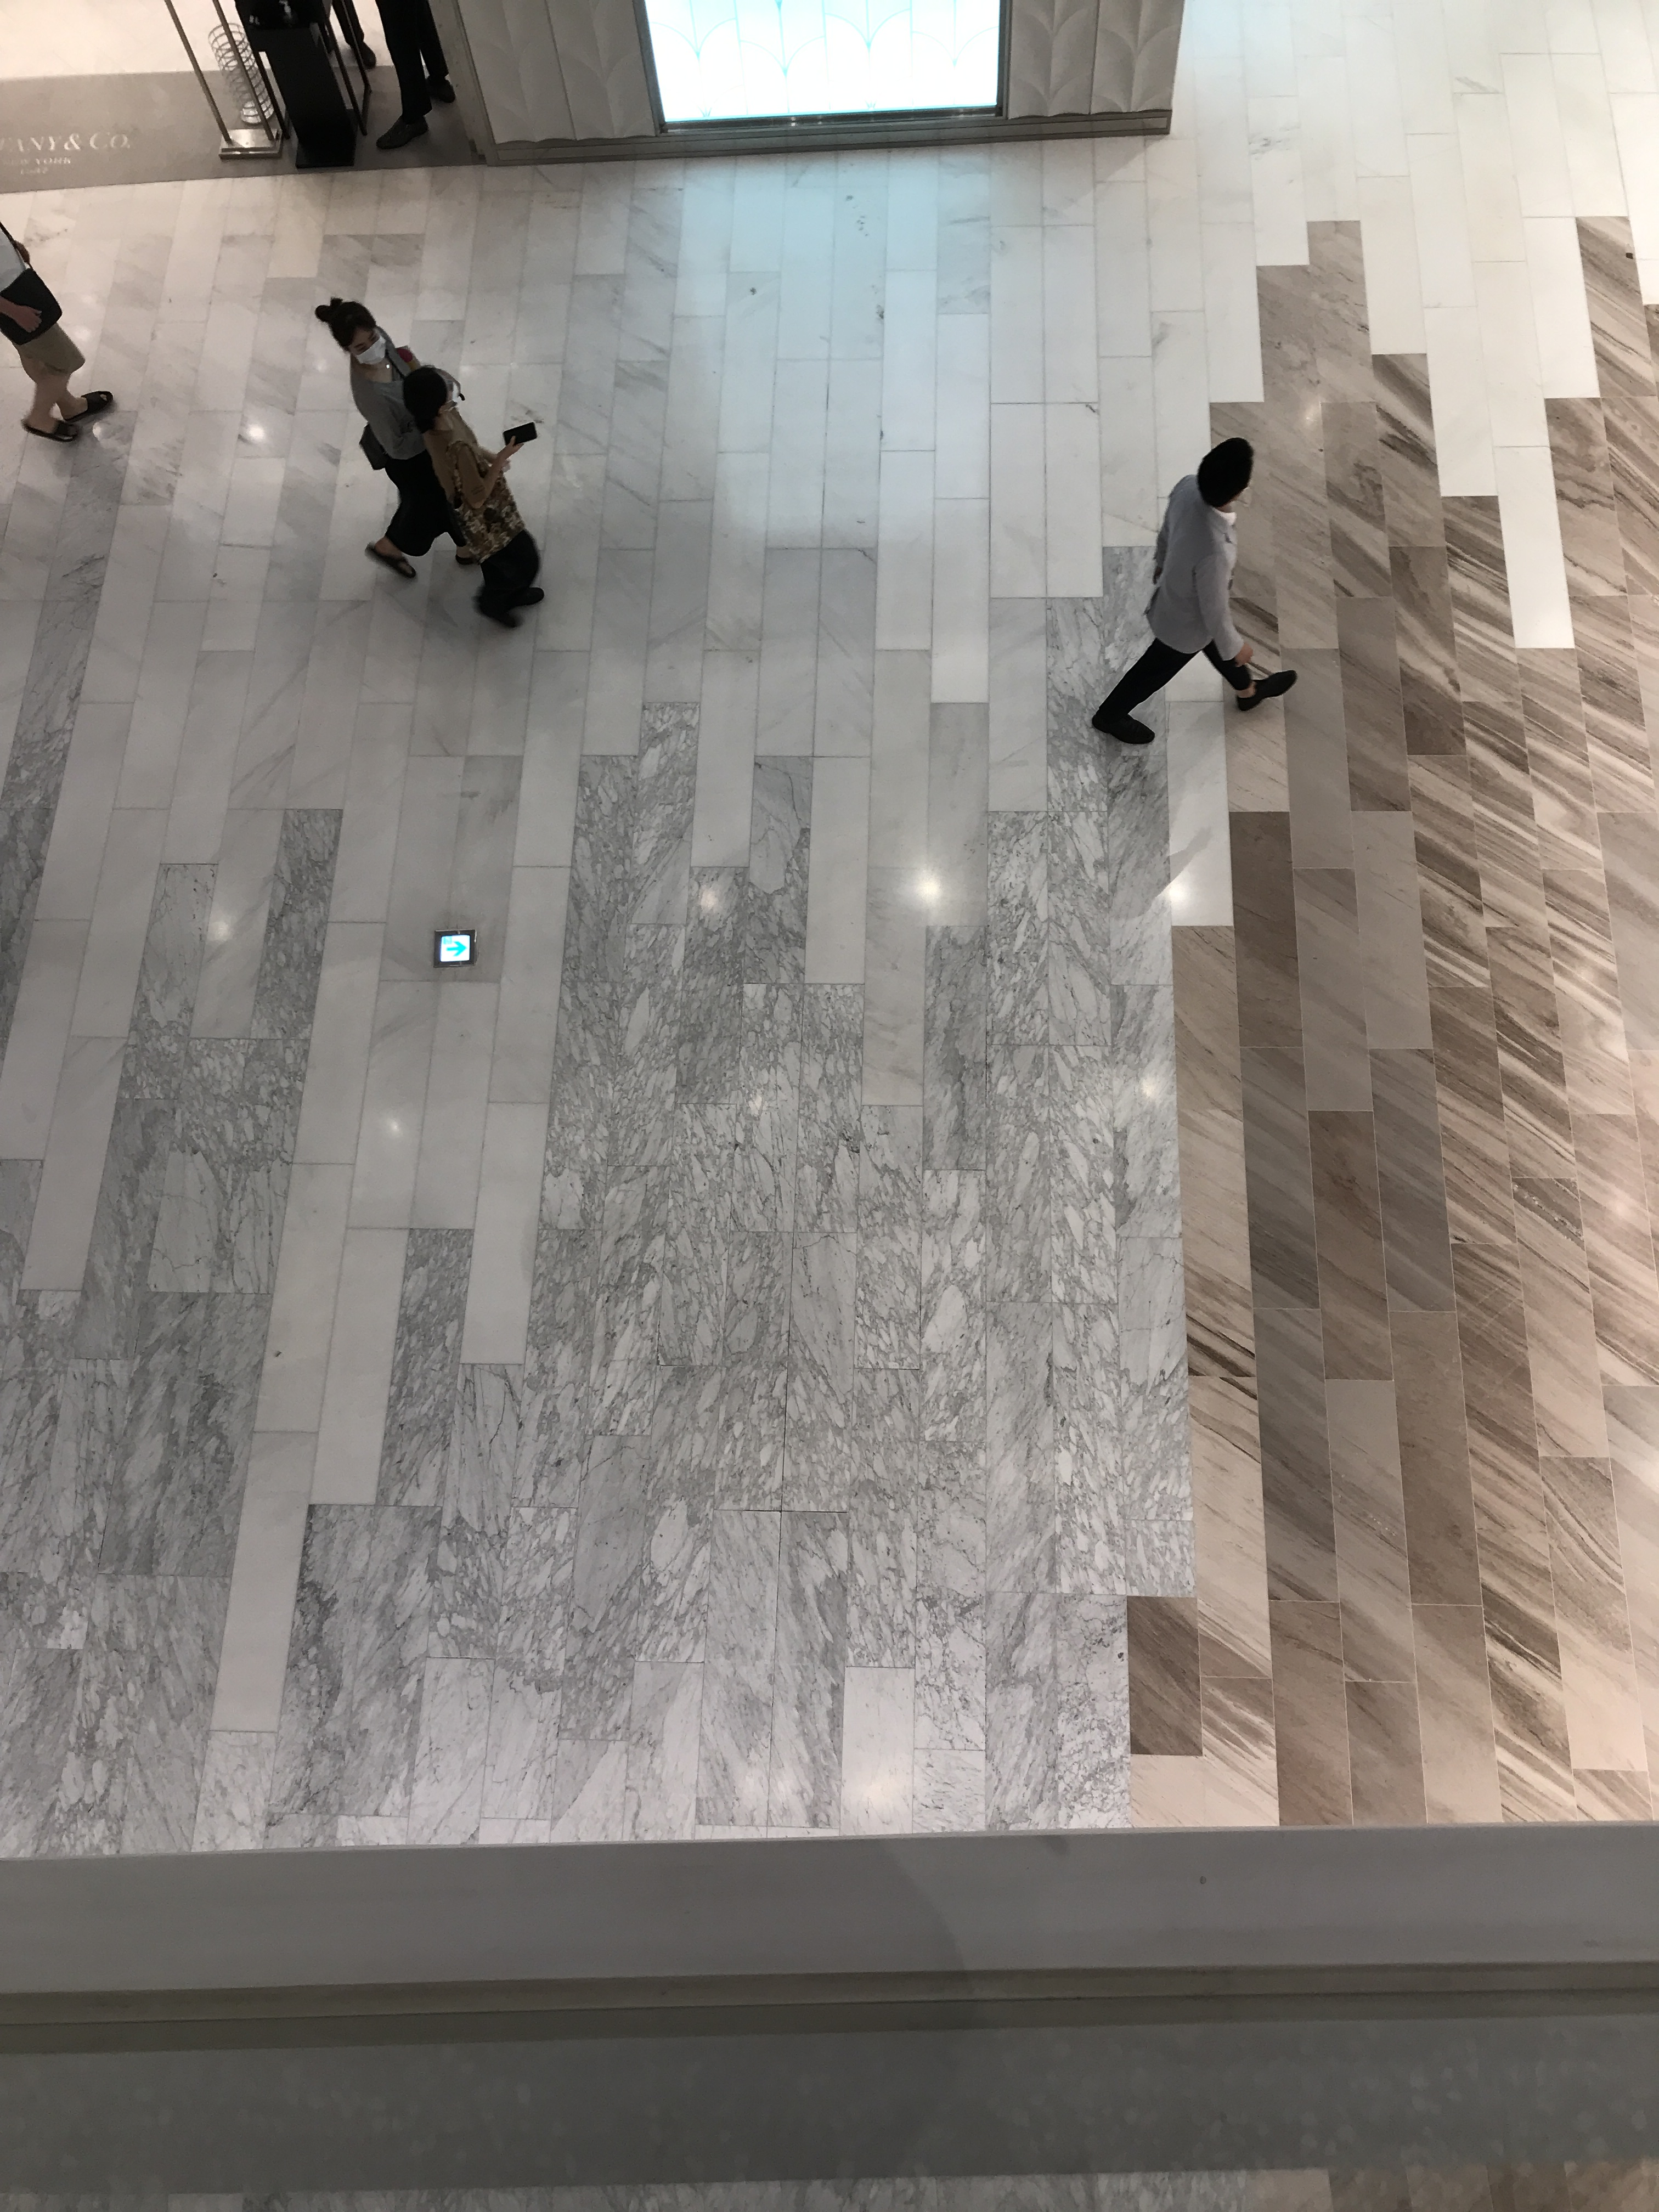person: (1079, 435, 1302, 752), (400, 366, 552, 630), (313, 295, 438, 582), (1, 221, 121, 447)
